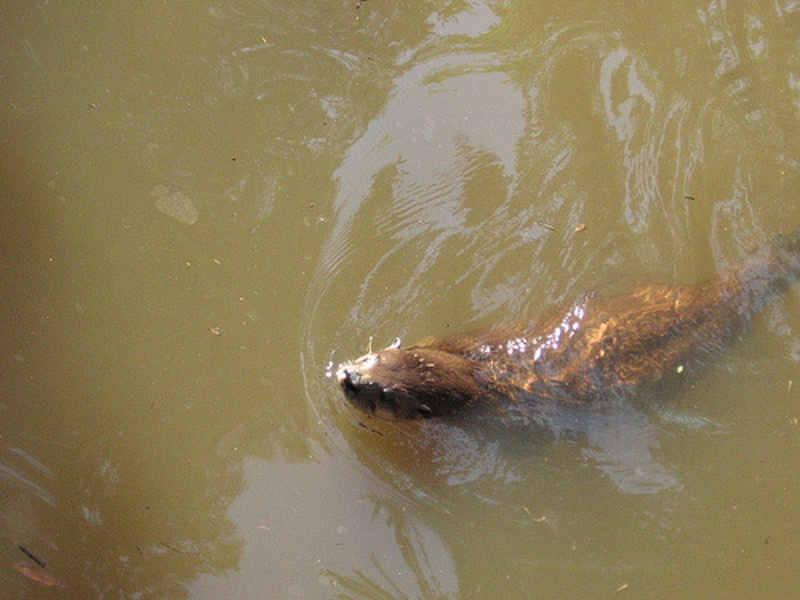minkish: (329, 231, 800, 437)
